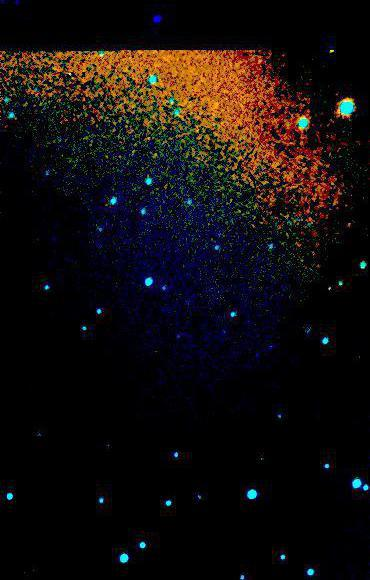star: (247, 445, 277, 475)
